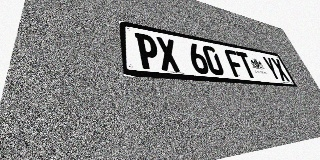0: (201, 45, 225, 76)
6: (186, 42, 211, 75)
F: (224, 49, 247, 78)
P: (135, 32, 161, 70)
T: (235, 51, 258, 79)
X: (155, 36, 181, 72), (270, 58, 290, 81)
Y: (261, 56, 282, 81)
